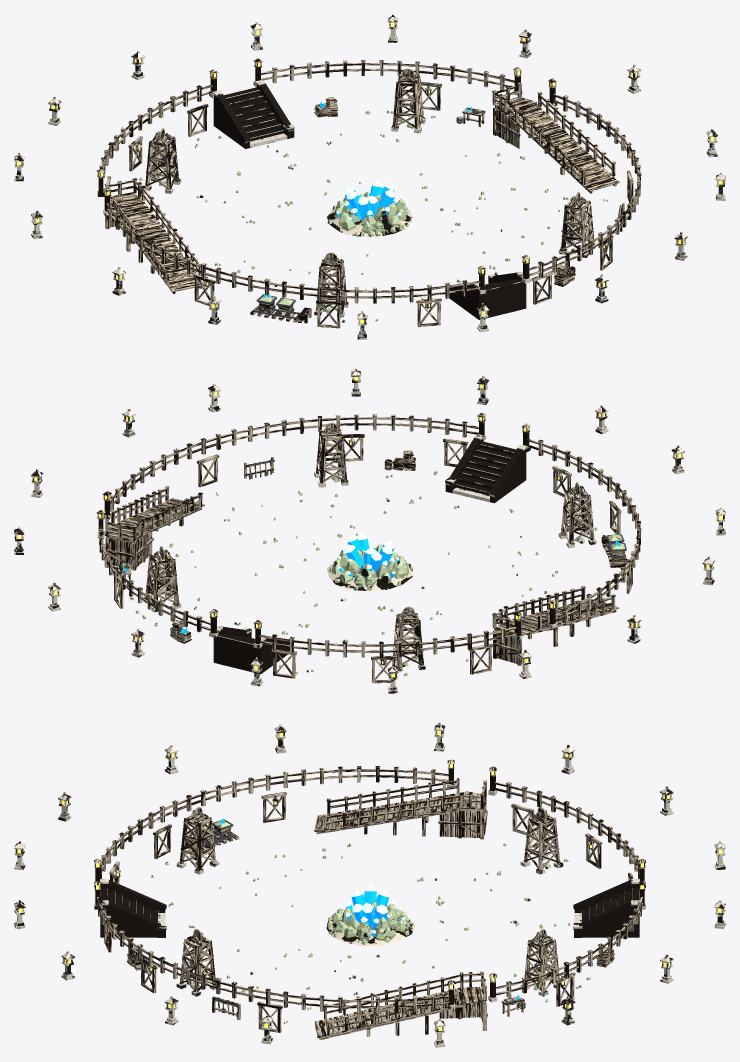
File: ILHA1_03_MINING_203d27.fbx
3 renders of one model, top to bottom at view 1: azimuth 30°, elevation 25°; view 2: azimuth 150°, elevation 25°; view 3: azimuth 270°, elevation 25°, orthographic.
Visible parts, largest first — view 1: MINE_Pit_Ramps__Wood_Plank_B, MINE_Derricks__Wood_Dark_B, MINE_Pit_Fence__Wood_Dark, MINE_Props__Wood_Dark_C, MINE_Pit_Fence__Wood_Plank_B, MINE_Pit_Stairs__Stone_Wall_Light, MINE_Pit_Ramps__Wood_Dark, MINE_Ring_Toros__Stone_Wall_Dark, MINE_Pit_Fence__Wood_Dark_B, MINE_Ring_Toros__Stone_Wall_Light_C, MINE_Core_Formation__Cliff_Rock_Dark, MINE_Pit_Stairs__Stone_Wall_Dark (+10 smaller); view 2: MINE_Derricks__Wood_Dark_B, MINE_Pit_Fence__Wood_Dark, MINE_Props__Wood_Dark_C, MINE_Pit_Fence__Wood_Plank_B, MINE_Pit_Ramps__Wood_Plank_B, MINE_Pit_Stairs__Stone_Wall_Light, MINE_Pit_Ramps__Wood_Dark, MINE_Ring_Toros__Stone_Wall_Dark, MINE_Pit_Fence__Wood_Dark_B, MINE_Ring_Toros__Stone_Wall_Light_C, MINE_Pit_Ramps__Wood_Dark_B, MINE_Core_Formation__Cliff_Rock_Dark (+10 smaller); view 3: MINE_Pit_Ramps__Wood_Plank_B, MINE_Derricks__Wood_Dark_B, MINE_Pit_Fence__Wood_Dark, MINE_Pit_Fence__Wood_Plank_B, MINE_Props__Wood_Dark_C, MINE_Pit_Ramps__Wood_Dark, MINE_Pit_Stairs__Stone_Wall_Dark, MINE_Ring_Toros__Stone_Wall_Dark, MINE_Pit_Fence__Wood_Dark_B, MINE_Pit_Stairs__Stone_Wall_Light, MINE_Ring_Toros__Stone_Wall_Light_C, MINE_Core_Formation__Cliff_Rock_Dark (+11 smaller).
Part boxes in pixels (bbox=[...]): MINE_Pit_Ramps__Wood_Plank_B: bbox=[108, 85, 613, 291]; MINE_Derricks__Wood_Dark_B: bbox=[145, 74, 594, 313]; MINE_Pit_Fence__Wood_Dark: bbox=[96, 60, 640, 303]; MINE_Props__Wood_Dark_C: bbox=[106, 82, 633, 328]; MINE_Pit_Fence__Wood_Plank_B: bbox=[101, 63, 640, 298]; MINE_Pit_Stairs__Stone_Wall_Light: bbox=[212, 87, 523, 318]; MINE_Pit_Ramps__Wood_Dark: bbox=[104, 86, 615, 289]; MINE_Ring_Toros__Stone_Wall_Dark: bbox=[14, 16, 725, 339]; MINE_Pit_Fence__Wood_Dark_B: bbox=[99, 58, 641, 303]; MINE_Ring_Toros__Stone_Wall_Light_C: bbox=[15, 14, 724, 336]; MINE_Core_Formation__Cliff_Rock_Dark: bbox=[327, 190, 408, 236]; MINE_Pit_Stairs__Stone_Wall_Dark: bbox=[213, 84, 526, 319]; MINE_Derricks__Wood_Dark_B: bbox=[145, 428, 594, 667]; MINE_Pit_Fence__Wood_Dark: bbox=[96, 412, 640, 657]; MINE_Props__Wood_Dark_C: bbox=[113, 434, 632, 683]; MINE_Pit_Fence__Wood_Plank_B: bbox=[100, 417, 640, 652]; MINE_Pit_Ramps__Wood_Plank_B: bbox=[107, 488, 619, 663]; MINE_Pit_Stairs__Stone_Wall_Light: bbox=[218, 434, 515, 672]; MINE_Pit_Ramps__Wood_Dark: bbox=[105, 488, 615, 665]; MINE_Ring_Toros__Stone_Wall_Dark: bbox=[14, 370, 725, 693]; MINE_Pit_Fence__Wood_Dark_B: bbox=[97, 414, 641, 652]; MINE_Ring_Toros__Stone_Wall_Light_C: bbox=[15, 368, 724, 690]; MINE_Pit_Ramps__Wood_Dark_B: bbox=[104, 485, 616, 658]; MINE_Core_Formation__Cliff_Rock_Dark: bbox=[329, 544, 412, 590]; MINE_Pit_Ramps__Wood_Plank_B: bbox=[314, 783, 486, 1035]; MINE_Derricks__Wood_Dark_B: bbox=[179, 810, 560, 992]; MINE_Pit_Fence__Wood_Dark: bbox=[94, 764, 645, 1013]; MINE_Pit_Fence__Wood_Plank_B: bbox=[97, 769, 642, 1008]; MINE_Props__Wood_Dark_C: bbox=[104, 792, 633, 1032]; MINE_Pit_Ramps__Wood_Dark: bbox=[316, 780, 487, 1036]; MINE_Pit_Stairs__Stone_Wall_Dark: bbox=[100, 884, 639, 937]; MINE_Ring_Toros__Stone_Wall_Dark: bbox=[14, 724, 725, 1047]; MINE_Pit_Fence__Wood_Dark_B: bbox=[95, 759, 645, 1012]; MINE_Pit_Stairs__Stone_Wall_Light: bbox=[100, 879, 639, 929]; MINE_Ring_Toros__Stone_Wall_Light_C: bbox=[15, 722, 724, 1044]; MINE_Core_Formation__Cliff_Rock_Dark: bbox=[327, 901, 412, 944].
Bounding box in the file's own units: 159 × 15.3 × 159.
9 materials, 4 textured.
